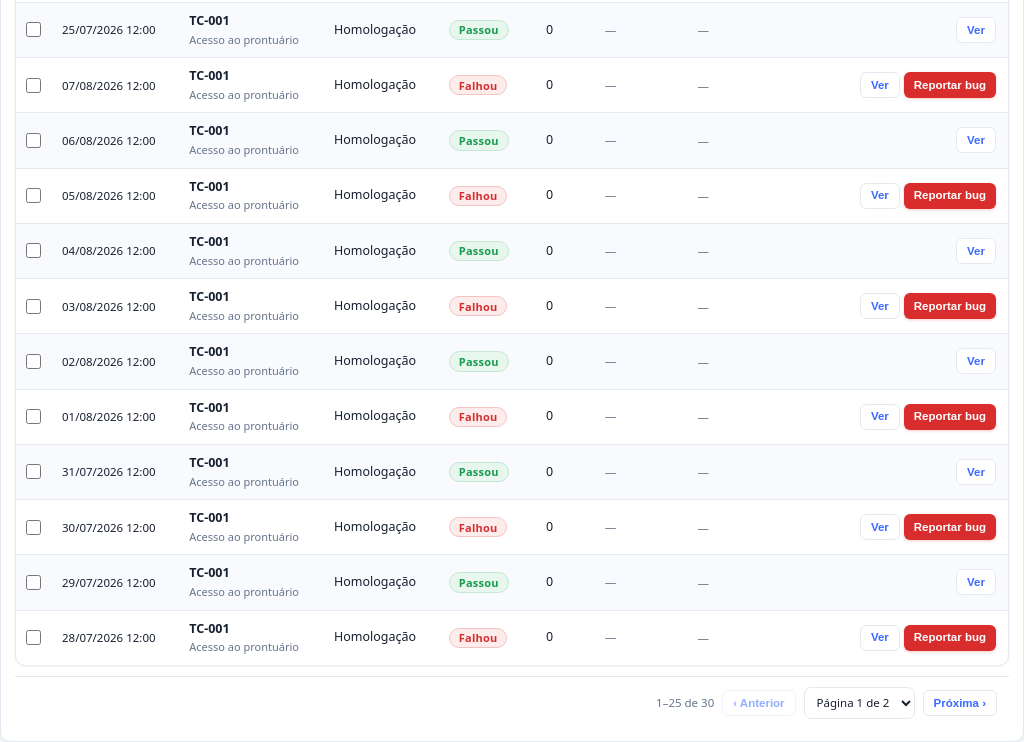
Scenario: Execution — histórico com filtros e paginação › pagina 25 por página, navega e salta
This screenshot has width=1024, height=742.
(page scrolled)
expect the text "1–25 de 30" is shown: met, box [656,694,714,712]
Click the button "Próxima ›" at (960, 703), box [923,690,997,716]
(page scrolled)
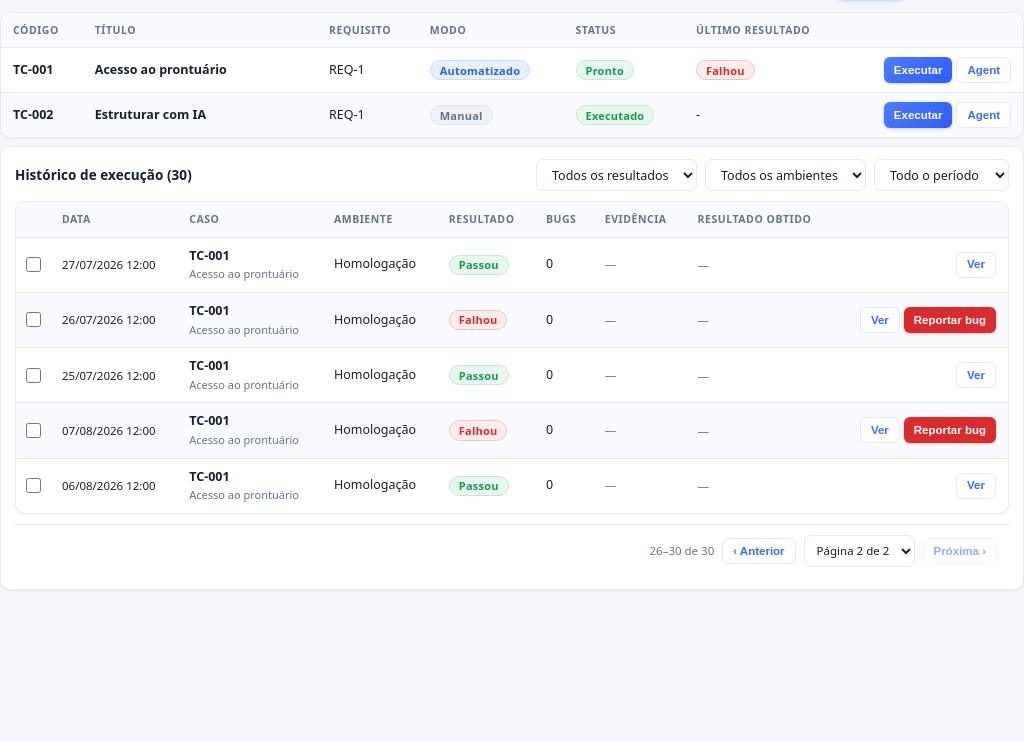
expect the text "26–30 de 30" is shown: met, box [650,542,714,560]
Select "Página 1 de 2" in the dropdown named "Ir para a página" at (859, 551), box [804,535,915,567]
(page scrolled)
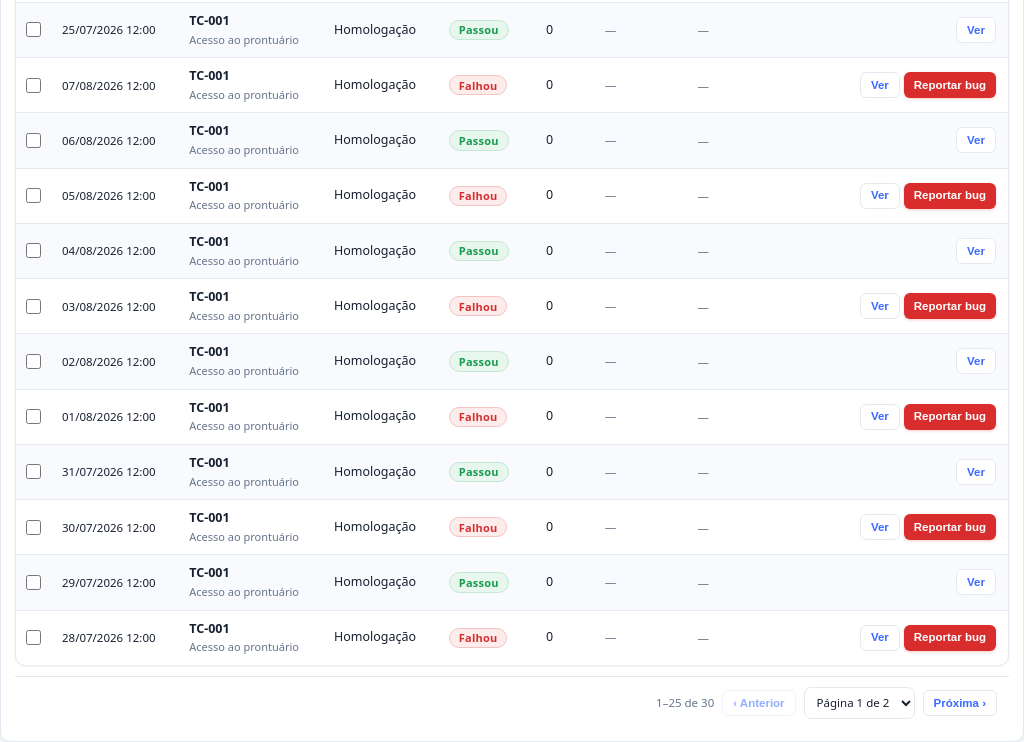
expect the text "1–25 de 30" is shown: met, box [656,694,714,712]
